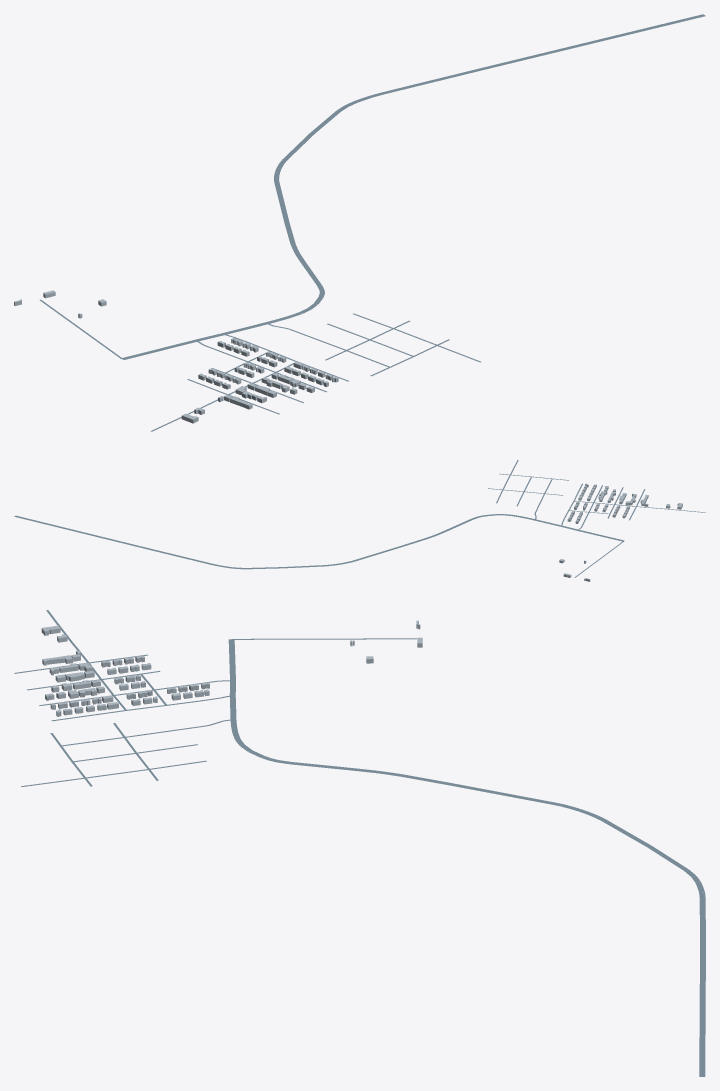
The picture shows the model from 3 angles, top to bottom: view 1: azimuth 30°, elevation 25°; view 2: azimuth 150°, elevation 25°; view 3: azimuth 270°, elevation 25°; orthographic projection. The views are drawn at different scales.
Size of the model in its own units: 1848 by 8 by 1157.
